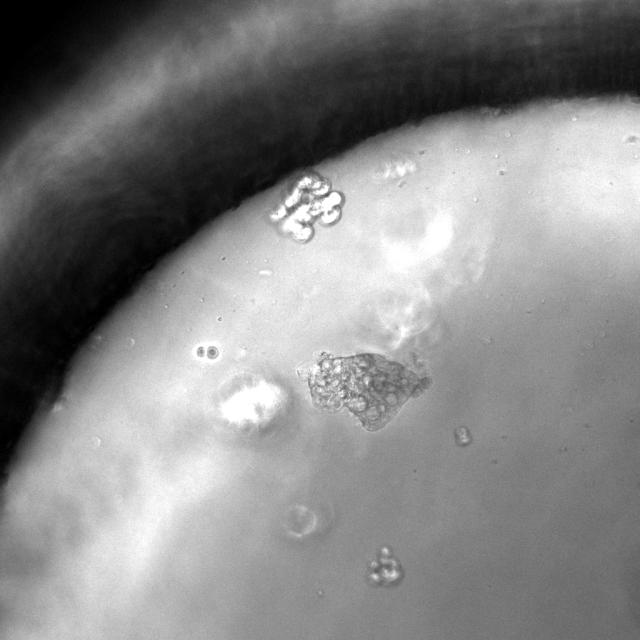organoid: (298, 352, 431, 431), (270, 170, 343, 243), (367, 546, 403, 586), (196, 344, 219, 359), (454, 426, 471, 446)
